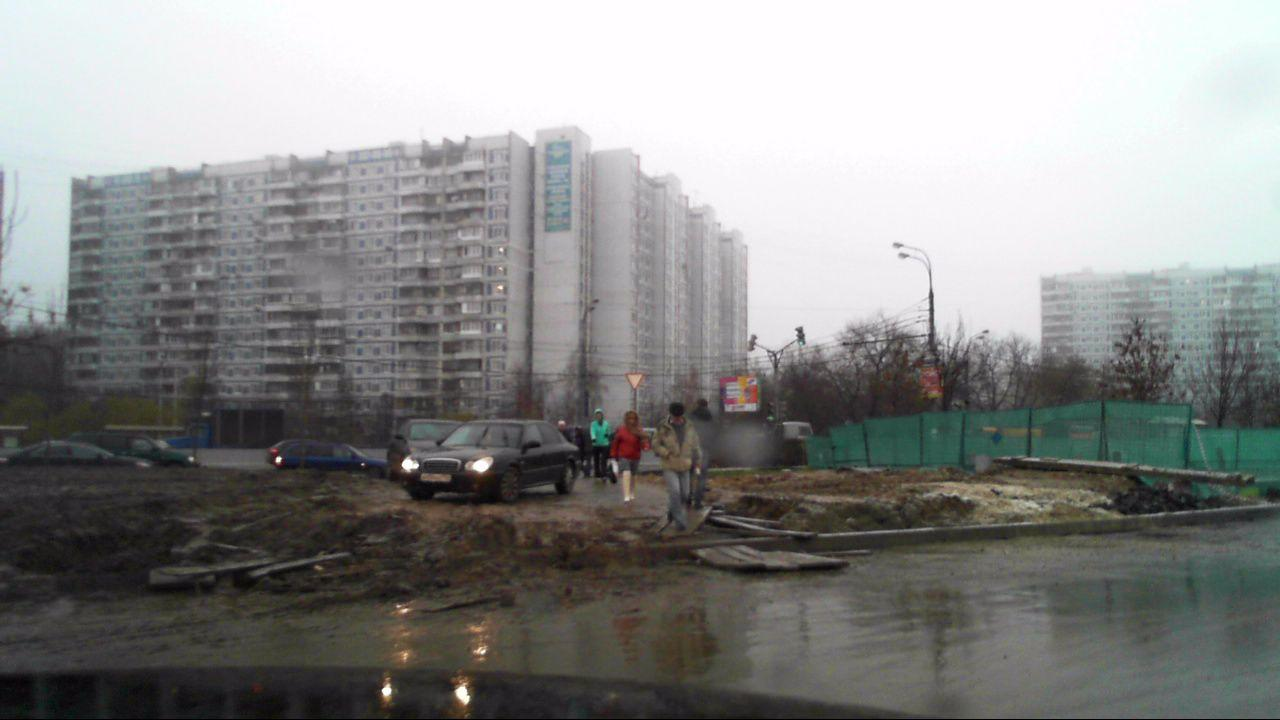2_4: (625, 371, 644, 391)
